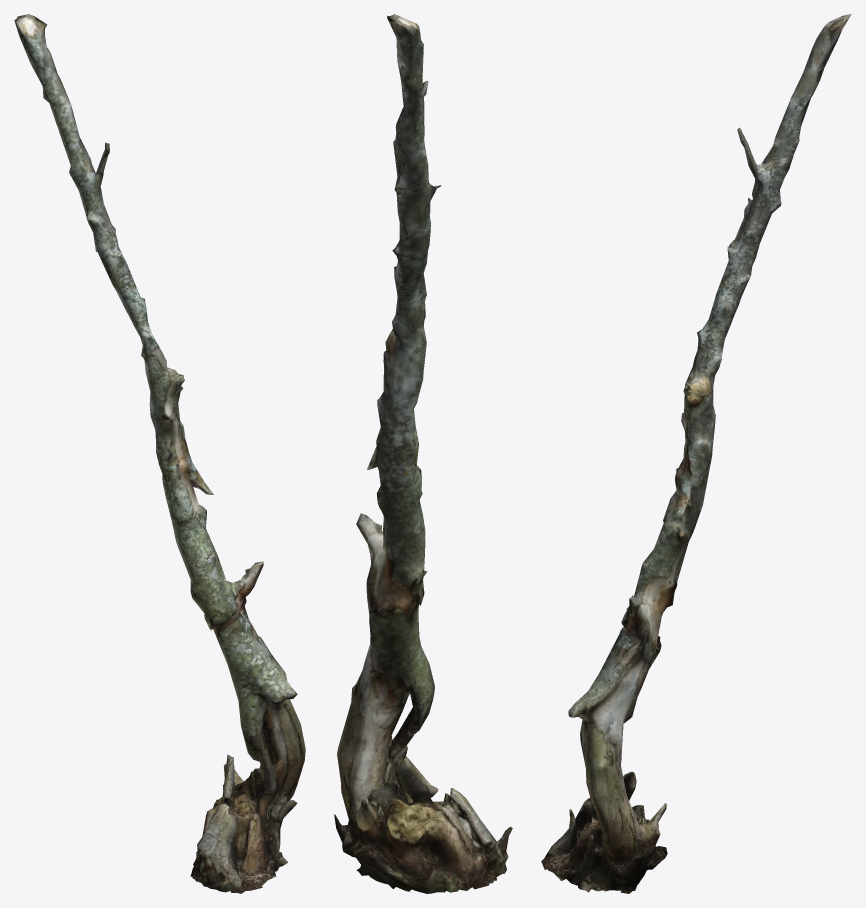
File: tree_half_dead.glb
3 renders of one model, left to right at view 1: azimuth 30°, elevation 25°; view 2: azimuth 150°, elevation 25°; view 3: azimuth 270°, elevation 25°, orthographic. The views are drawn at different scales.
Visible parts, largest first — view 1: Very Small Tree; view 2: Very Small Tree; view 3: Very Small Tree.
Part boxes in pixels (x1=…): Very Small Tree: x1=14, y1=14, x2=305, y2=893; Very Small Tree: x1=334, y1=14, x2=512, y2=893; Very Small Tree: x1=541, y1=14, x2=851, y2=893.
Bounding box in the file's own units: 1.82 × 8 × 2.78.
Materials: 1 (1 with a texture image).
